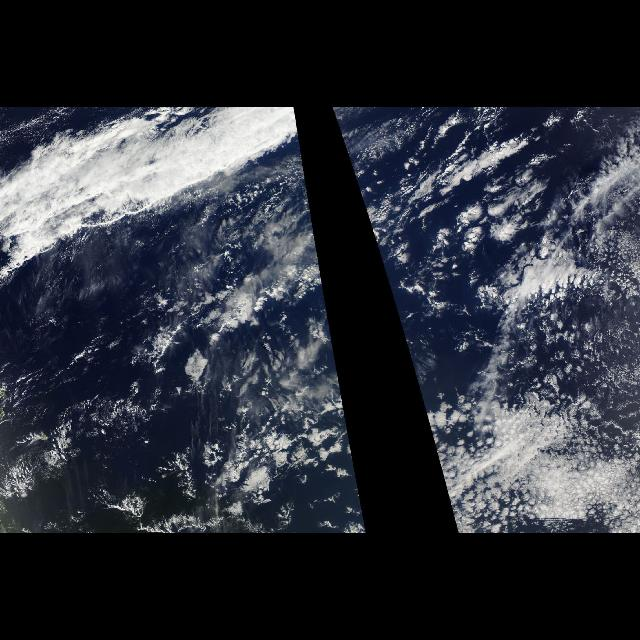Fish: (15, 280, 327, 528)
Flower: (424, 320, 636, 530)
Gravel: (428, 255, 640, 467)
